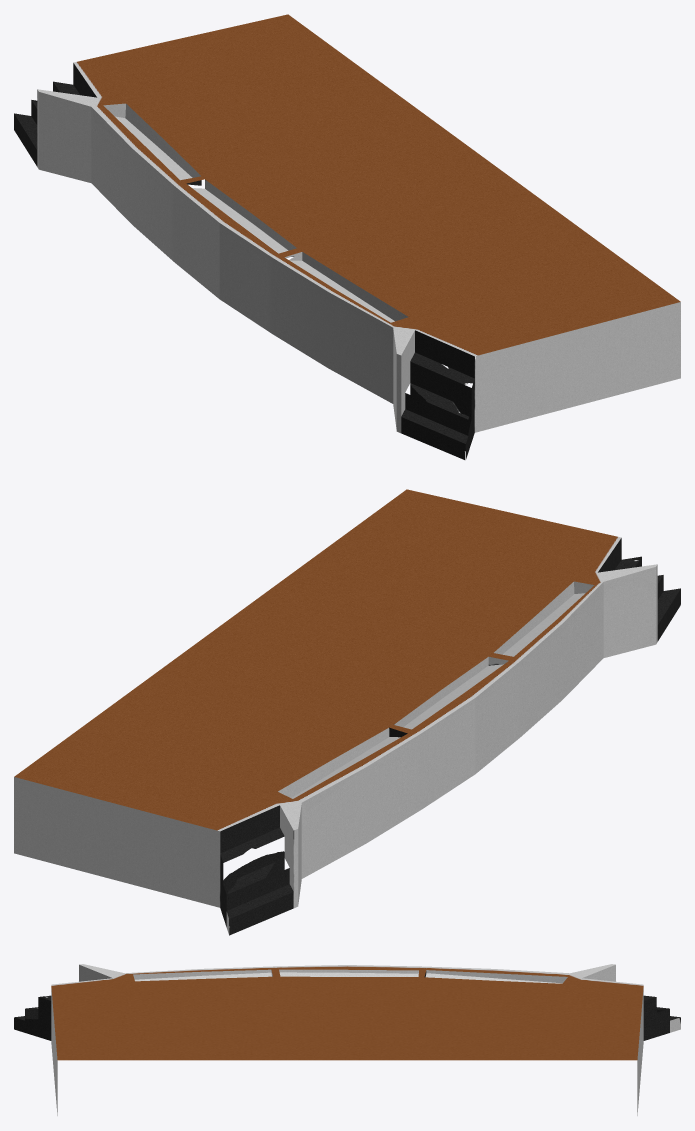
The model's file is m_theater_stage_lod1.fbx.
3 renders of one model, top to bottom at view 1: azimuth 30°, elevation 25°; view 2: azimuth 150°, elevation 25°; view 3: azimuth 270°, elevation 25°, orthographic. The views are drawn at different scales.
Parts seen in each view (by area): view 1: SPROJ_Theater_Chairs:polySurface60; view 2: SPROJ_Theater_Chairs:polySurface60; view 3: SPROJ_Theater_Chairs:polySurface60.
Boxes of the visible parts, box(x1,y1,x2,y2) form: SPROJ_Theater_Chairs:polySurface60: box(14, 14, 680, 459); SPROJ_Theater_Chairs:polySurface60: box(14, 489, 680, 935); SPROJ_Theater_Chairs:polySurface60: box(14, 964, 680, 1115).
Bounding box in the file's own units: 46.49 × 12.97 × 136.
